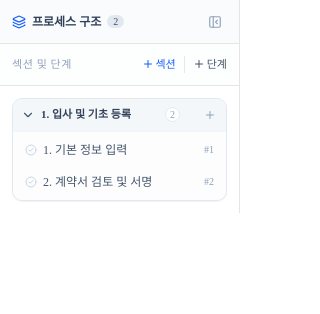
Test case: PHASE 11: StructurePanel Multi-Section Rendering & Interaction › 새 섹션 추가 버튼 클릭 시 새로운 섹션이 리스트에 표시되어야 한다
Click the button with test id "structure-add-section-btn": (159, 64) x1=142 y1=56 x2=176 y2=72
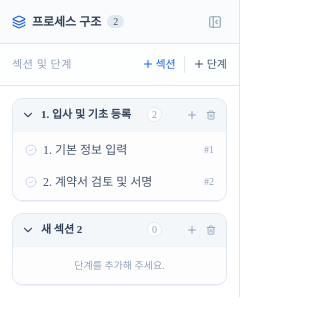
Result: the text "새 섹션 2" is shown at x1=41 y1=222 x2=82 y2=237
